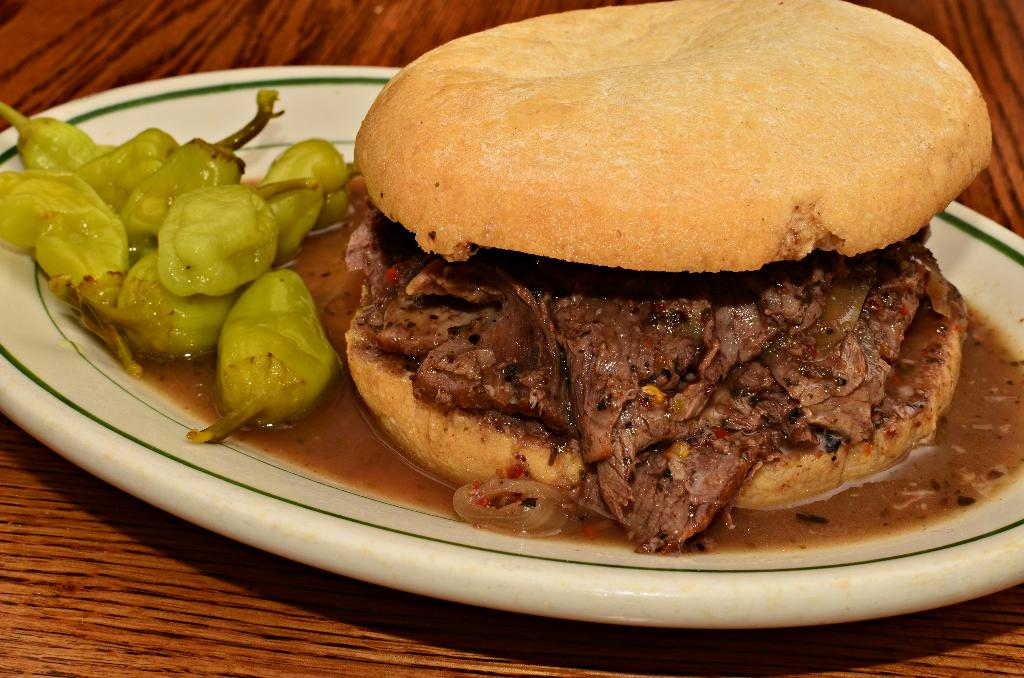Hamburger: (341, 0, 995, 551)
